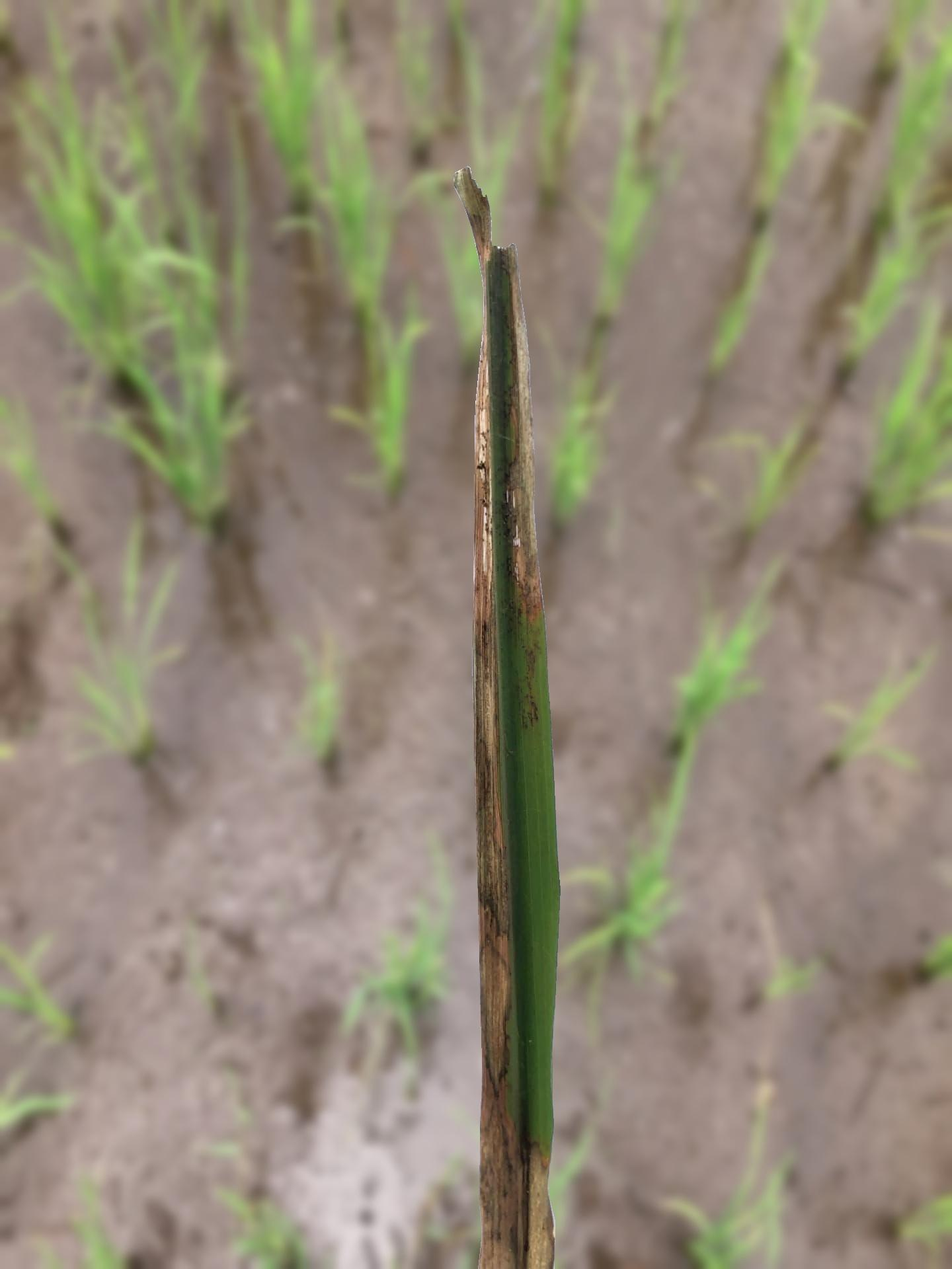BLB: (472, 286, 554, 1268), (503, 270, 543, 734)
LEAF: (454, 166, 560, 1268)
